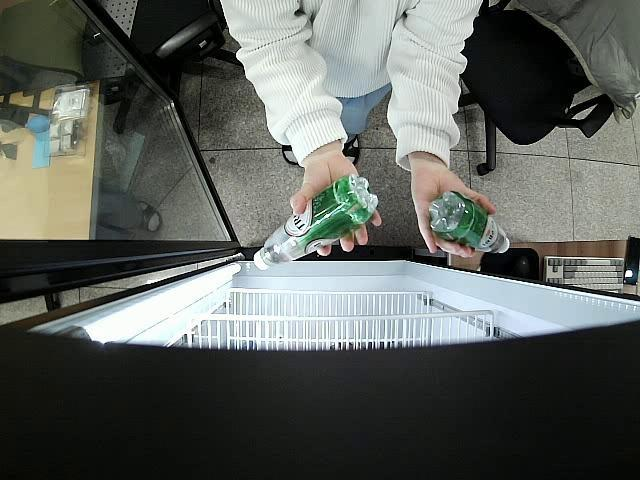18_trevi: (254, 175, 378, 269), (429, 190, 510, 255)
